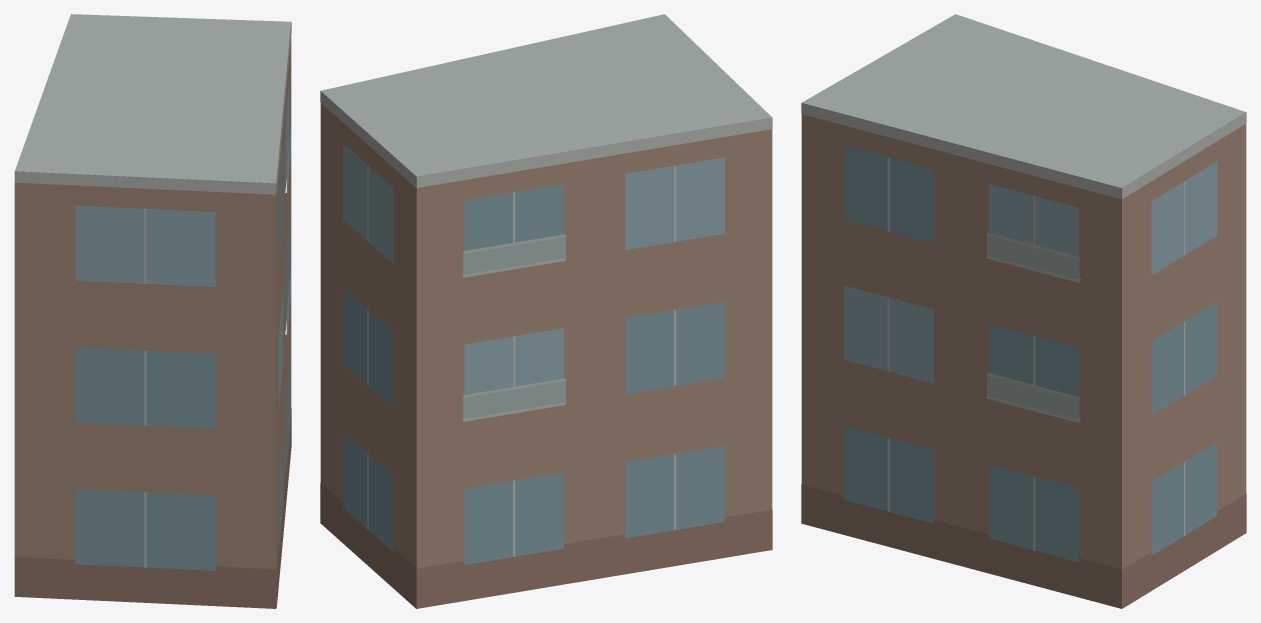
Rendered from survey-upis-32662310.glb.
3 views of the same model, side by side, from view 1: azimuth 30°, elevation 25°; view 2: azimuth 150°, elevation 25°; view 3: azimuth 270°, elevation 25° (orthographic). The views are drawn at different scales.
Parts seen in each view (by area): view 1: survey-upis-32662310.tmp; view 2: survey-upis-32662310.tmp; view 3: survey-upis-32662310.tmp.
Part boxes in pixels (x1=…): survey-upis-32662310.tmp: x1=14, y1=14, x2=291, y2=608; survey-upis-32662310.tmp: x1=320, y1=14, x2=772, y2=608; survey-upis-32662310.tmp: x1=801, y1=14, x2=1246, y2=608.
Size of the model in its own units: 8.13 by 9.15 by 8.78.
